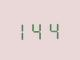four: (47, 19, 60, 39), (33, 20, 46, 39)
one: (18, 20, 31, 40)
